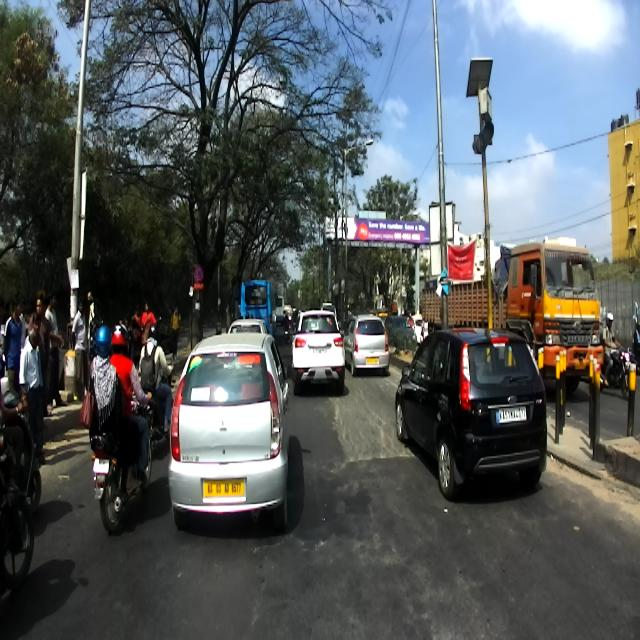car ahead at: (162, 320, 301, 546), (392, 314, 548, 499), (291, 303, 352, 403)
motorcycle ahead at: (75, 424, 159, 542)
